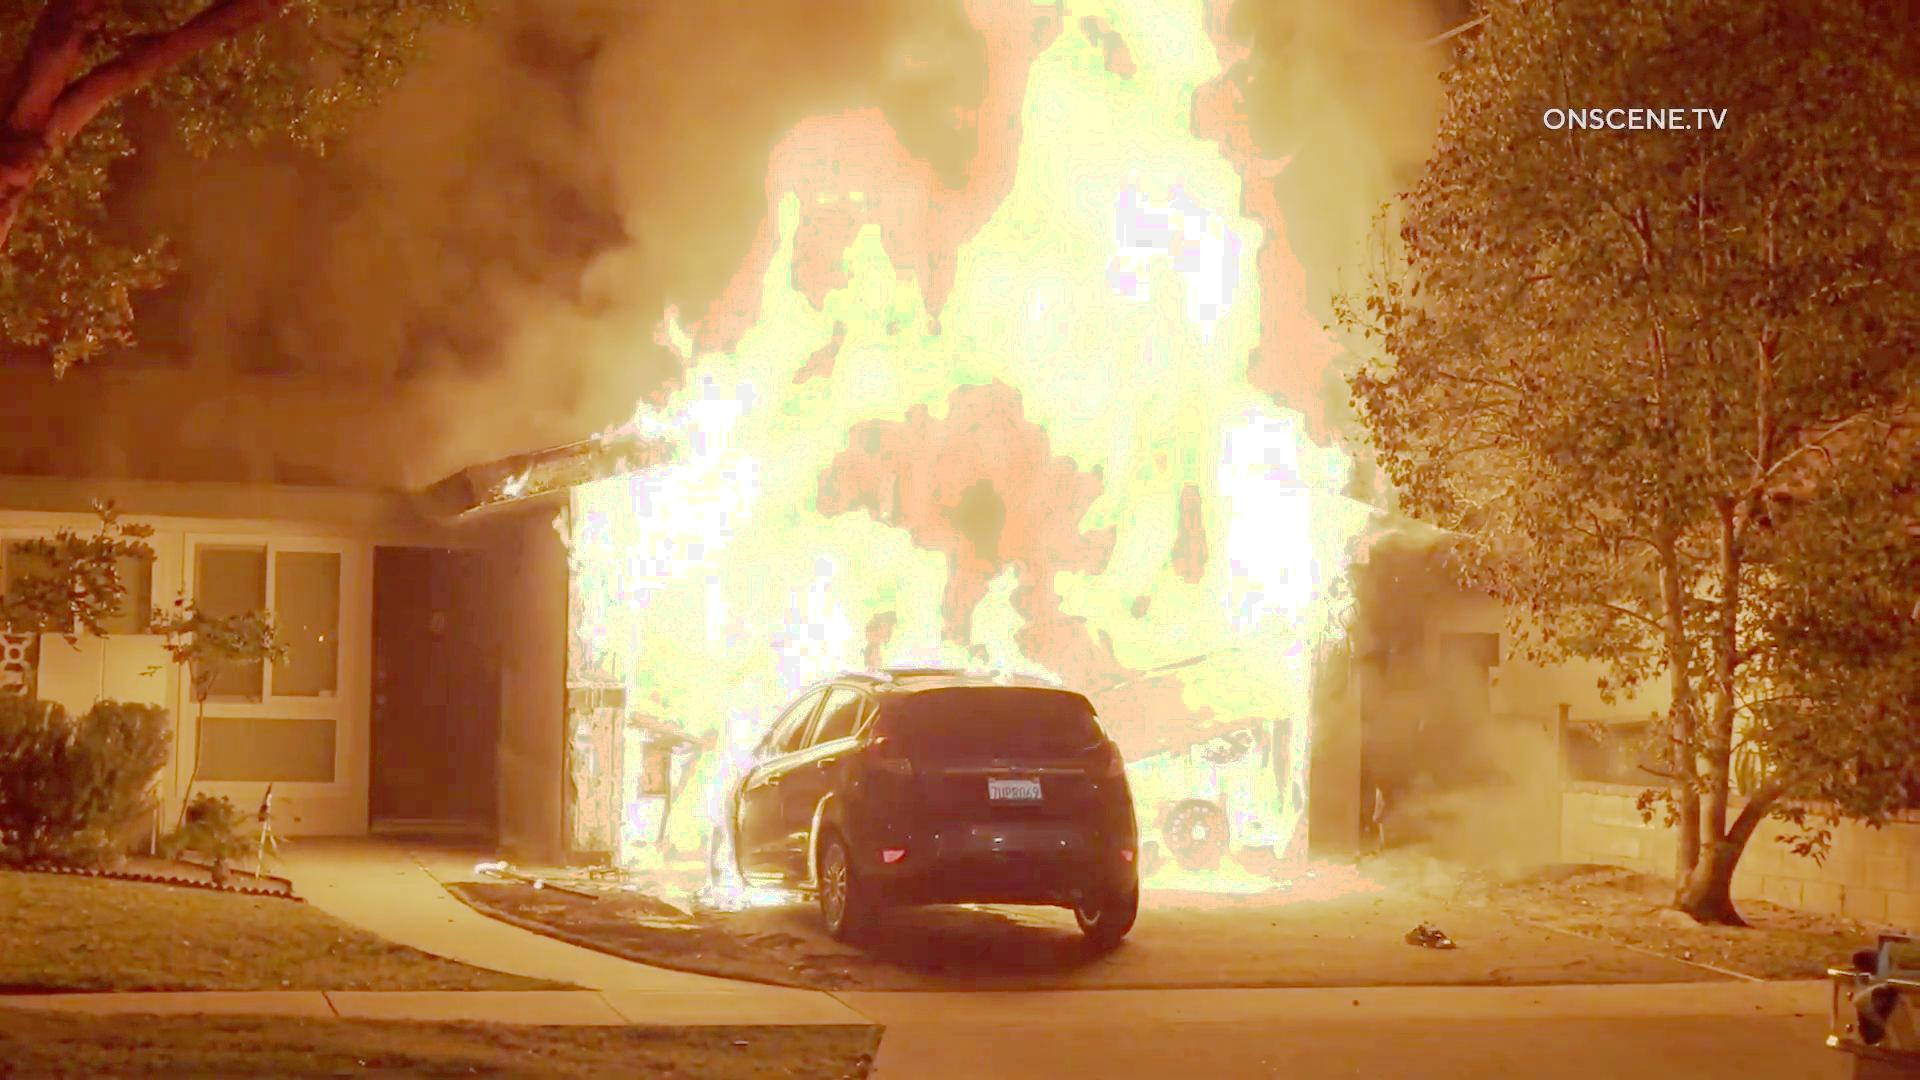fire: (993, 18, 1331, 669), (767, 22, 985, 662), (580, 488, 737, 893), (645, 218, 766, 475), (1141, 675, 1302, 858)
smoke: (198, 164, 628, 410), (463, 11, 749, 157), (1375, 663, 1561, 864)
